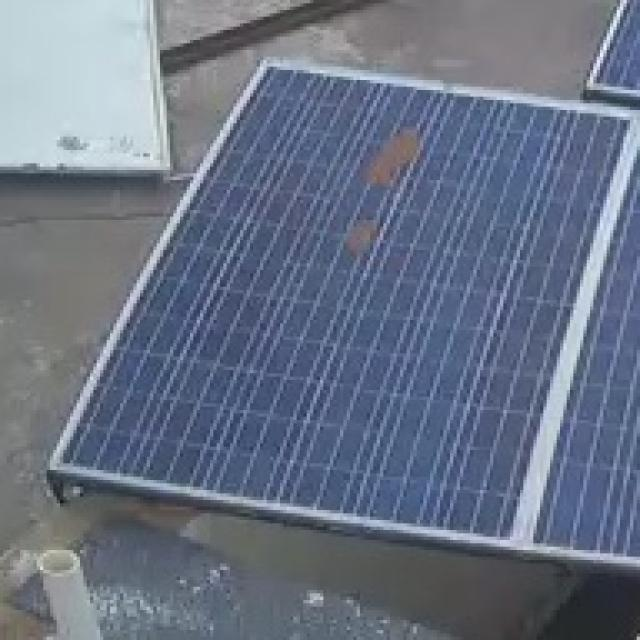Anomaly Solar Panel: (56, 61, 636, 543)
Surface Contaminant: (361, 124, 432, 190), (336, 219, 380, 257)
